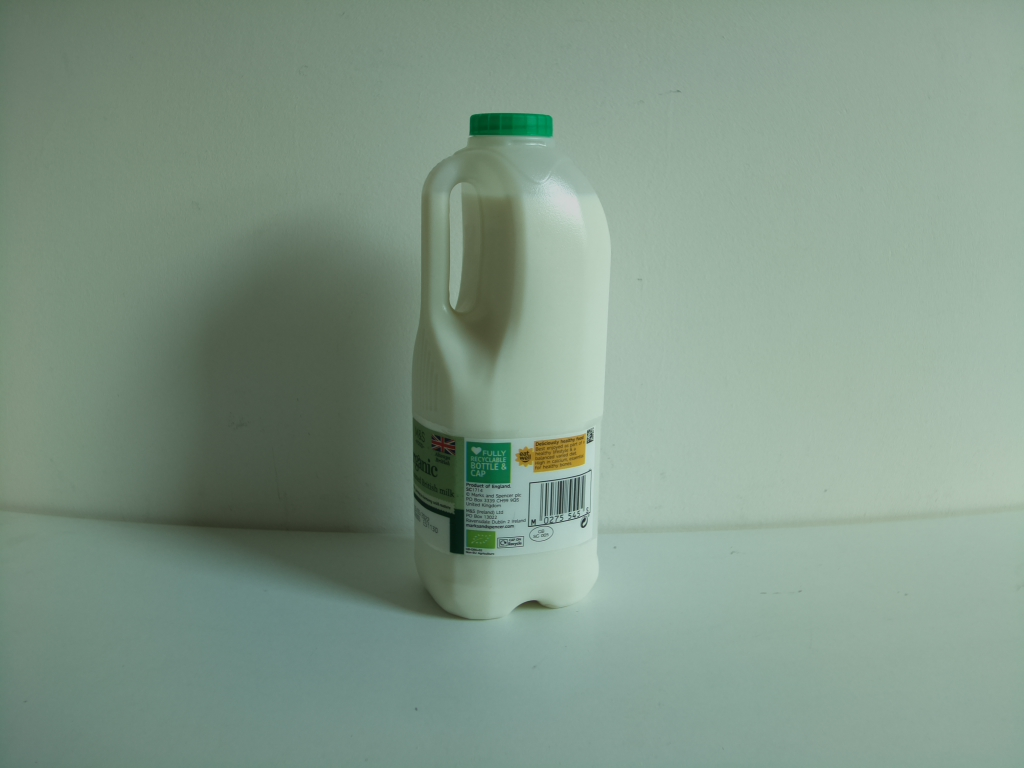milk: (410, 108, 617, 624)
